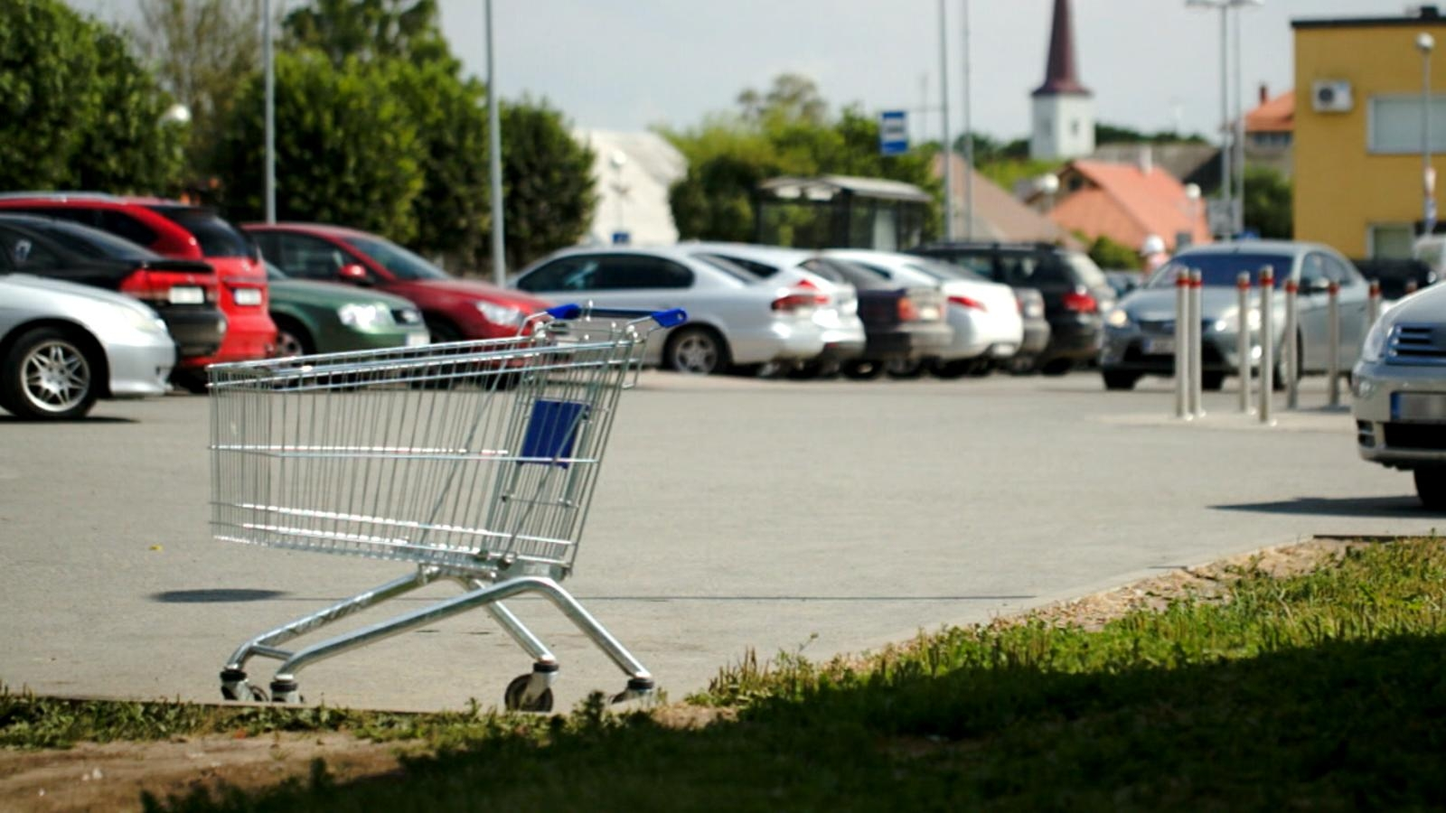Car: (1099, 209, 1384, 405), (503, 239, 830, 378), (1326, 268, 1446, 514), (1, 268, 197, 418)
shopping_cart: (194, 302, 681, 723)
